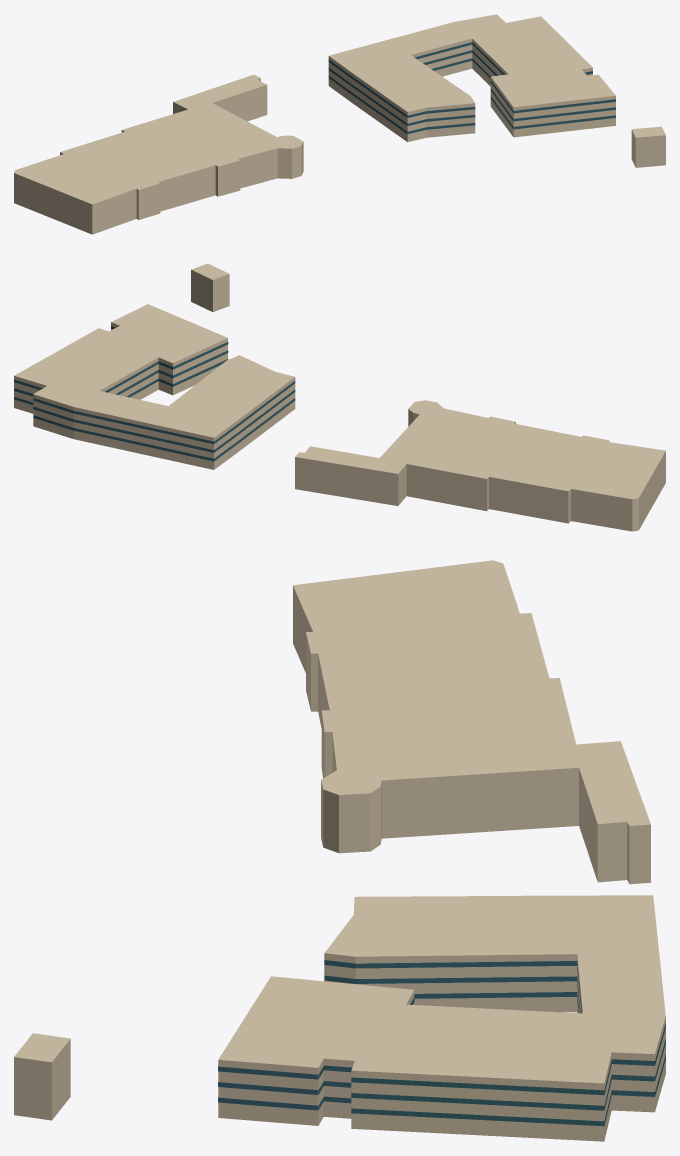
Rendered from city_-3_3.glb.
3 views of the same model, one above another, from view 1: azimuth 30°, elevation 25°; view 2: azimuth 150°, elevation 25°; view 3: azimuth 270°, elevation 25° (orthographic). The views are drawn at different scales.
Visible parts, largest first — view 1: city_-3_3; view 2: city_-3_3; view 3: city_-3_3.
Part boxes in pixels (x1=…): city_-3_3: x1=14, y1=14, x2=665, y2=234; city_-3_3: x1=14, y1=263, x2=665, y2=531; city_-3_3: x1=14, y1=560, x2=665, y2=1141.
Size of the model in its own units: 289 by 15 by 152.
